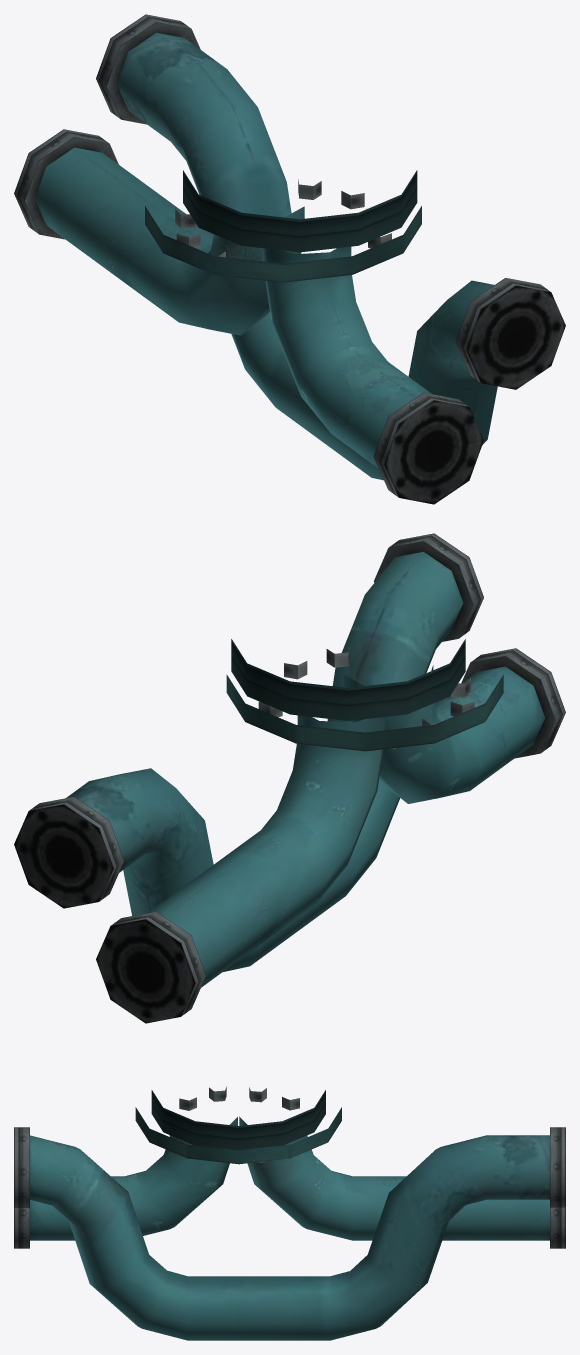
3 views of the same model, one above another, from view 1: azimuth 30°, elevation 25°; view 2: azimuth 150°, elevation 25°; view 3: azimuth 270°, elevation 25° (orthographic). The views are drawn at different scales.
Parts seen in each view (by area): view 1: body0_model0_lod0_mesh0; view 2: body0_model0_lod0_mesh0; view 3: body0_model0_lod0_mesh0.
Boxes of the visible parts, box(x1,y1,x2,y2) form: body0_model0_lod0_mesh0: box(14, 14, 565, 504); body0_model0_lod0_mesh0: box(14, 533, 565, 1023); body0_model0_lod0_mesh0: box(14, 1086, 565, 1340).
Size of the model in its own units: 25.13 by 29.01 by 64.09.
1 material, 1 textured.
